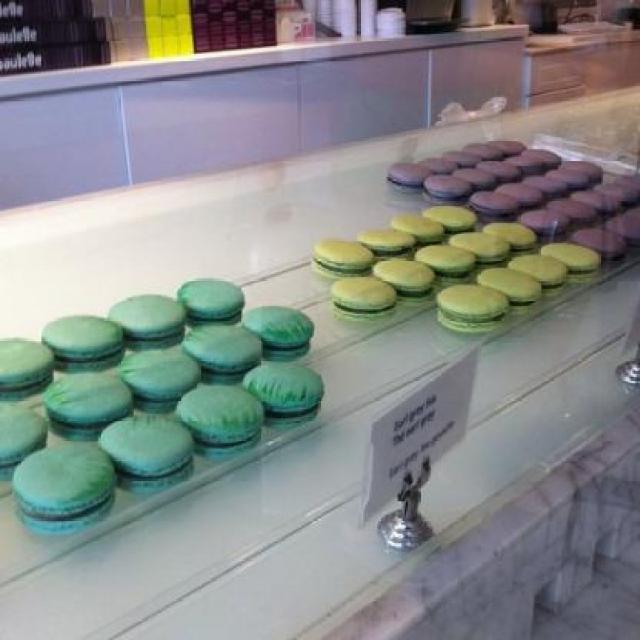Macaron: (3, 140, 640, 543)
